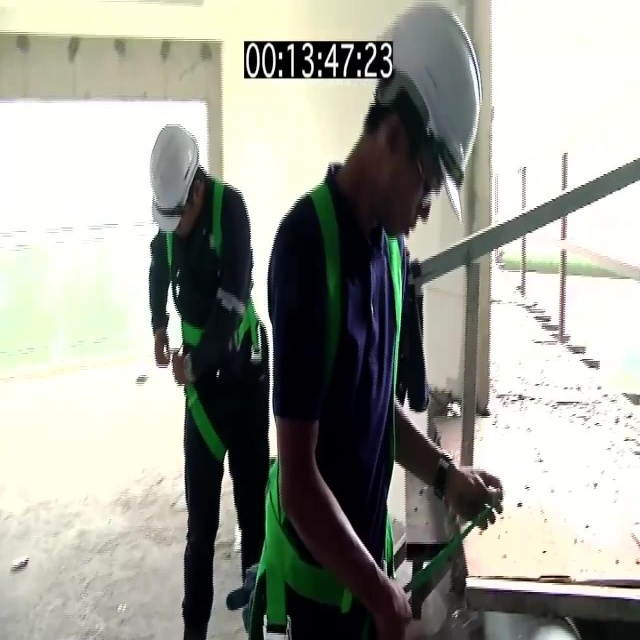Arnes_seguridad: (267, 187, 411, 635), (164, 175, 231, 469)
